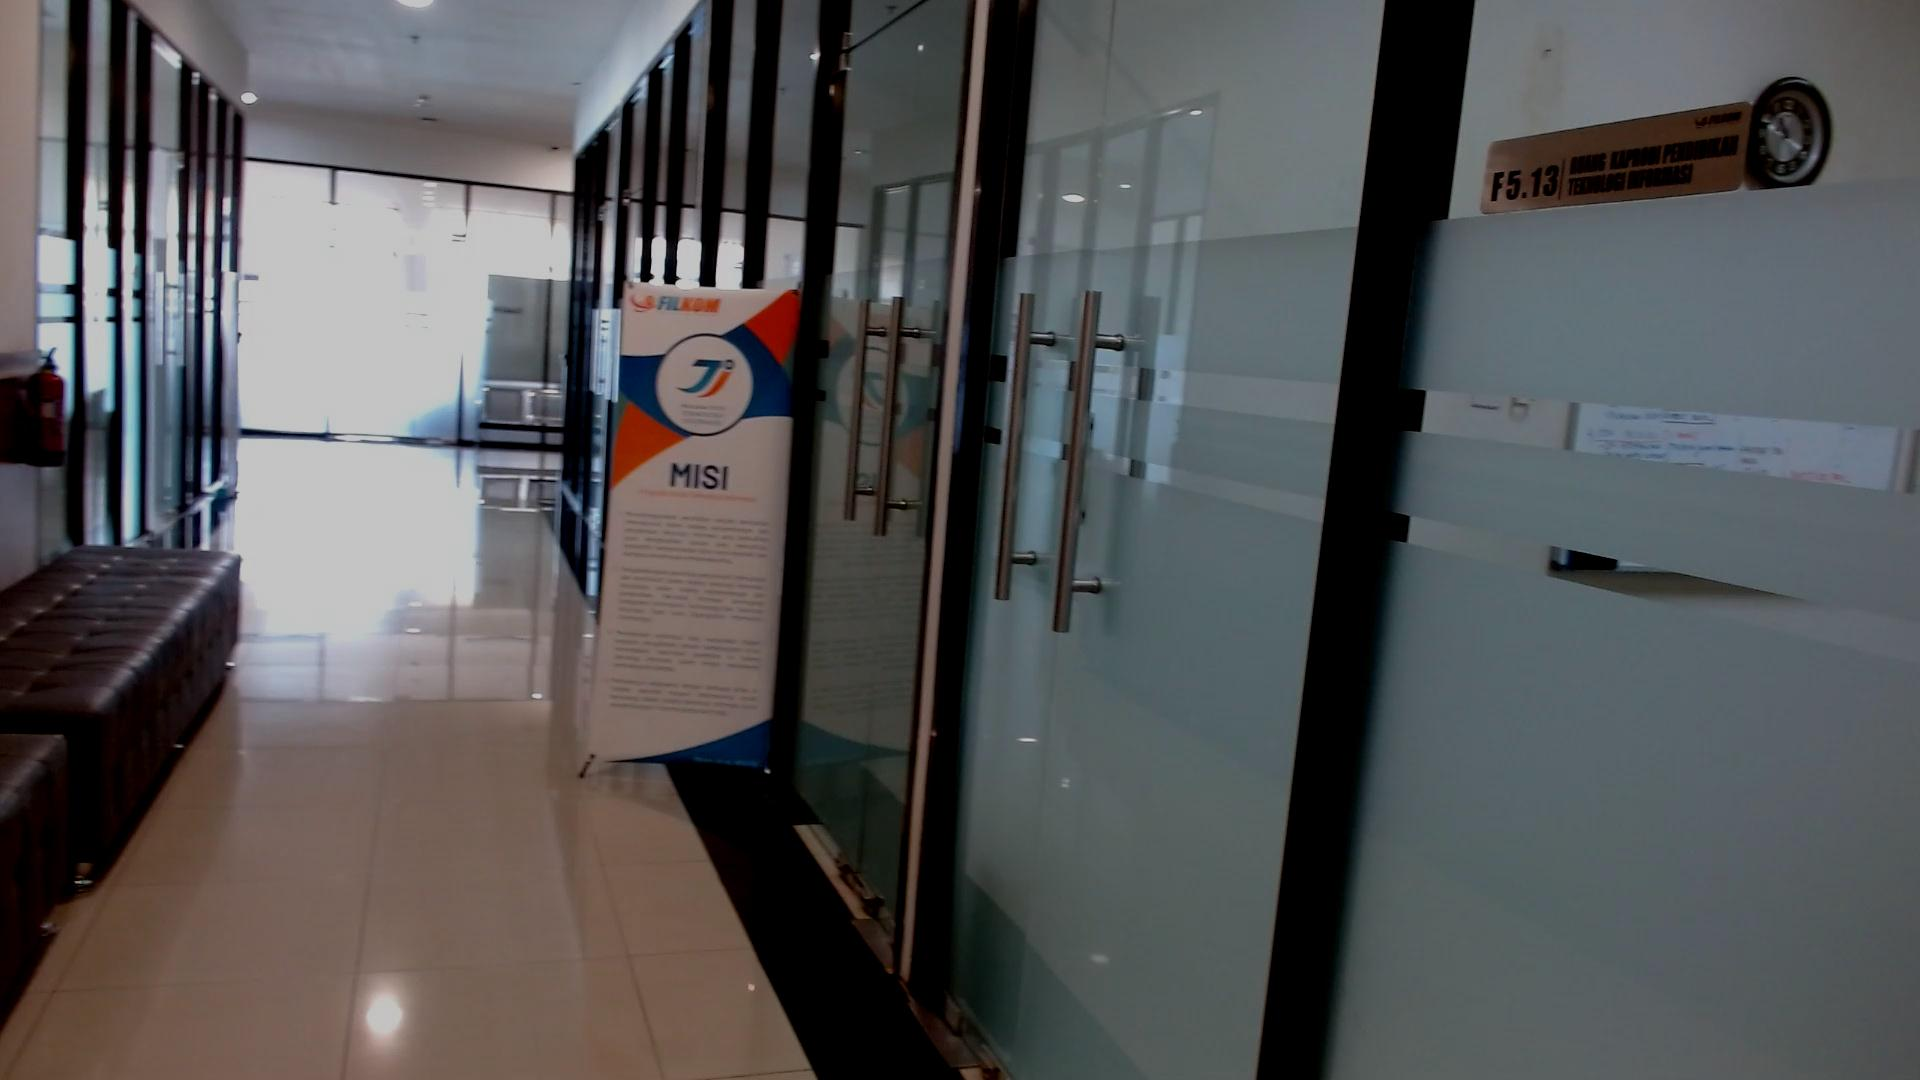plate: (1478, 103, 1756, 215)
